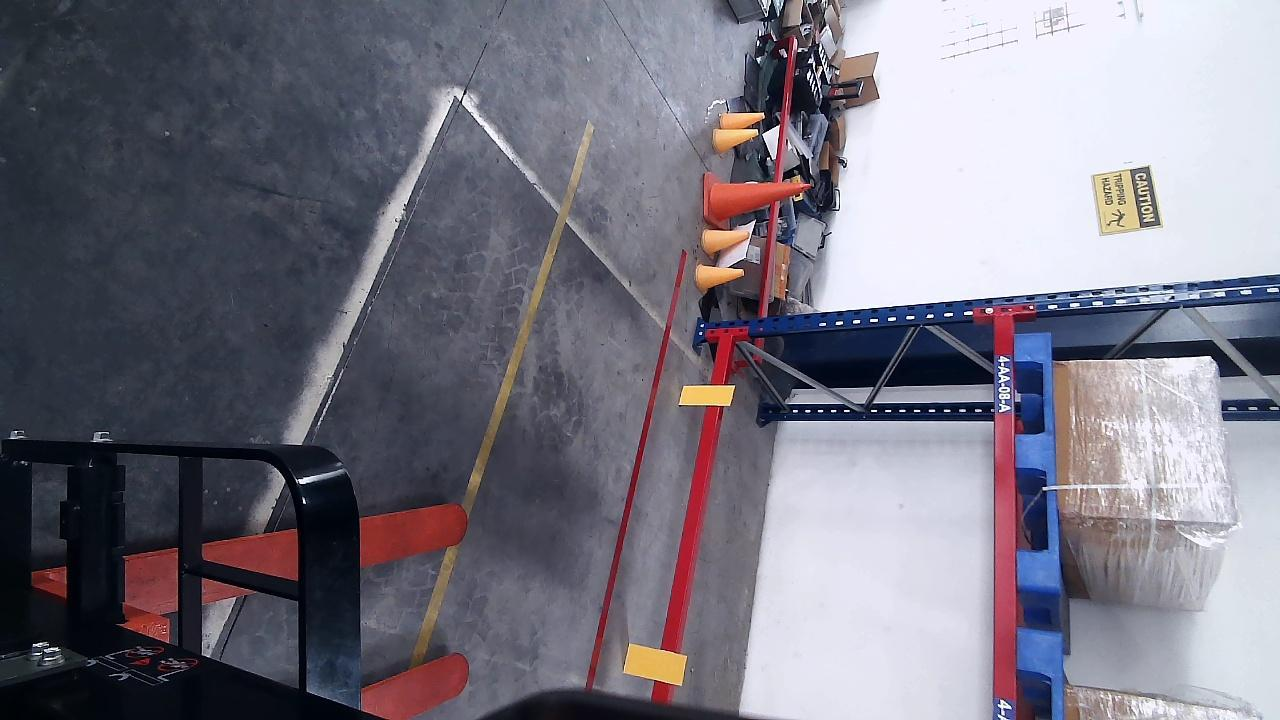h_rack: (647, 336, 737, 705), (992, 315, 1017, 720)
orange_strip: (623, 642, 685, 685), (680, 384, 734, 406)
red_line: (584, 242, 692, 690)
small_pallet: (1013, 334, 1061, 584), (1019, 630, 1061, 720)
yellow_line: (406, 118, 597, 670)
